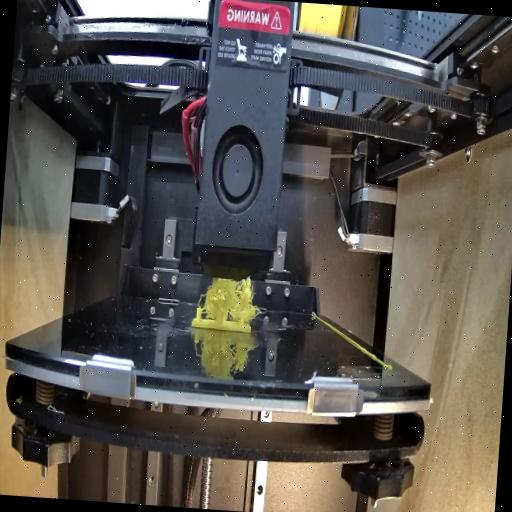spaghetti: (200, 268, 261, 322)
